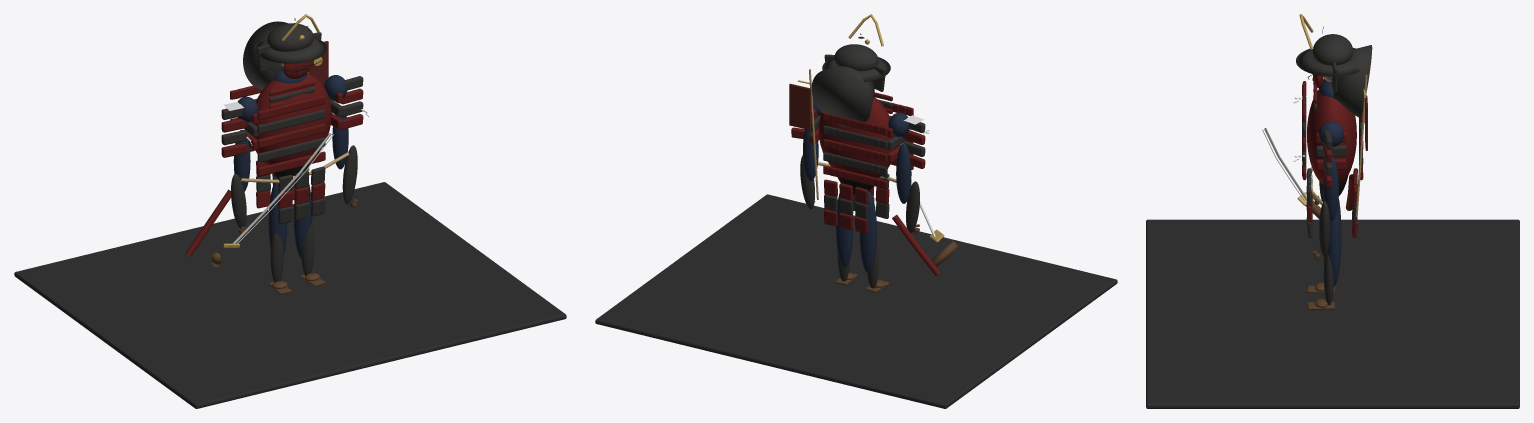
The model's file is samurai_character_v4.glb.
The picture shows the model from 3 angles, left to right: view 1: azimuth 30°, elevation 25°; view 2: azimuth 150°, elevation 25°; view 3: azimuth 270°, elevation 25°; orthographic projection. The views are drawn at different scales.
Visible parts, largest first — view 1: matte charcoal inspection plinth, rounded do cuirass silhouette, rear shikoro neck guard flare, segmented kabuto helmet bowl, wide kabuto brim, left kote forearm guard, right kote forearm guard, left hakama trouser leg, right armored upper arm, left shin greave, lacquered saya scabbard at left hip, right hakama trouser leg (+2 smaller); view 2: matte charcoal inspection plinth, rear shikoro neck guard flare, rounded do cuirass silhouette, cloth sashimono banner panel, segmented kabuto helmet bowl, left hakama trouser leg, left armored upper arm, right hakama trouser leg, right armored upper arm, left kote forearm guard, lacquered saya scabbard at left hip, wide kabuto brim; view 3: matte charcoal inspection plinth, rounded do cuirass silhouette, rear shikoro neck guard flare, segmented kabuto helmet bowl, wide kabuto brim, right hakama trouser leg, right armored upper arm, right kote forearm guard, right shoulder undercloth, right shin greave, bamboo sashimono back pole.
Part boxes in pixels (x1,y1,x2,y2): matte charcoal inspection plinth: [14, 182, 566, 408]; rounded do cuirass silhouette: [254, 73, 331, 165]; rear shikoro neck guard flare: [243, 21, 287, 90]; segmented kabuto helmet bowl: [267, 23, 313, 51]; wide kabuto brim: [254, 38, 326, 63]; left kote forearm guard: [231, 174, 246, 228]; right kote forearm guard: [342, 145, 357, 203]; left hakama trouser leg: [268, 179, 287, 255]; right armored upper arm: [332, 105, 348, 169]; left shin greave: [270, 233, 283, 282]; lacquered saya scabbard at left hip: [186, 189, 231, 256]; right hakama trouser leg: [293, 182, 312, 258]; matte charcoal inspection plinth: [595, 194, 1117, 408]; rear shikoro neck guard flare: [811, 66, 874, 127]; rounded do cuirass silhouette: [818, 97, 894, 178]; cloth sashimono banner panel: [789, 83, 811, 129]; segmented kabuto helmet bowl: [834, 44, 878, 70]; left hakama trouser leg: [859, 191, 876, 273]; left armored upper arm: [896, 143, 911, 203]; right hakama trouser leg: [836, 193, 853, 267]; right armored upper arm: [803, 129, 818, 180]; left kote forearm guard: [906, 181, 919, 233]; lacquered saya scabbard at left hip: [892, 215, 940, 275]; wide kabuto brim: [822, 57, 890, 82]; matte charcoal inspection plinth: [1146, 219, 1519, 408]; rounded do cuirass silhouette: [1307, 88, 1356, 184]; rear shikoro neck guard flare: [1333, 45, 1372, 117]; segmented kabuto helmet bowl: [1312, 34, 1353, 65]; wide kabuto brim: [1296, 48, 1359, 76]; right hakama trouser leg: [1327, 206, 1341, 286]; right armored upper arm: [1323, 156, 1338, 220]; right kote forearm guard: [1319, 201, 1329, 256]; right shoulder undercloth: [1318, 121, 1343, 147]; right shin greave: [1323, 253, 1333, 304]; bamboo sashimono back pole: [1355, 74, 1367, 217].
Bounding box in the file's own units: 4 × 3.04 × 3.4.
